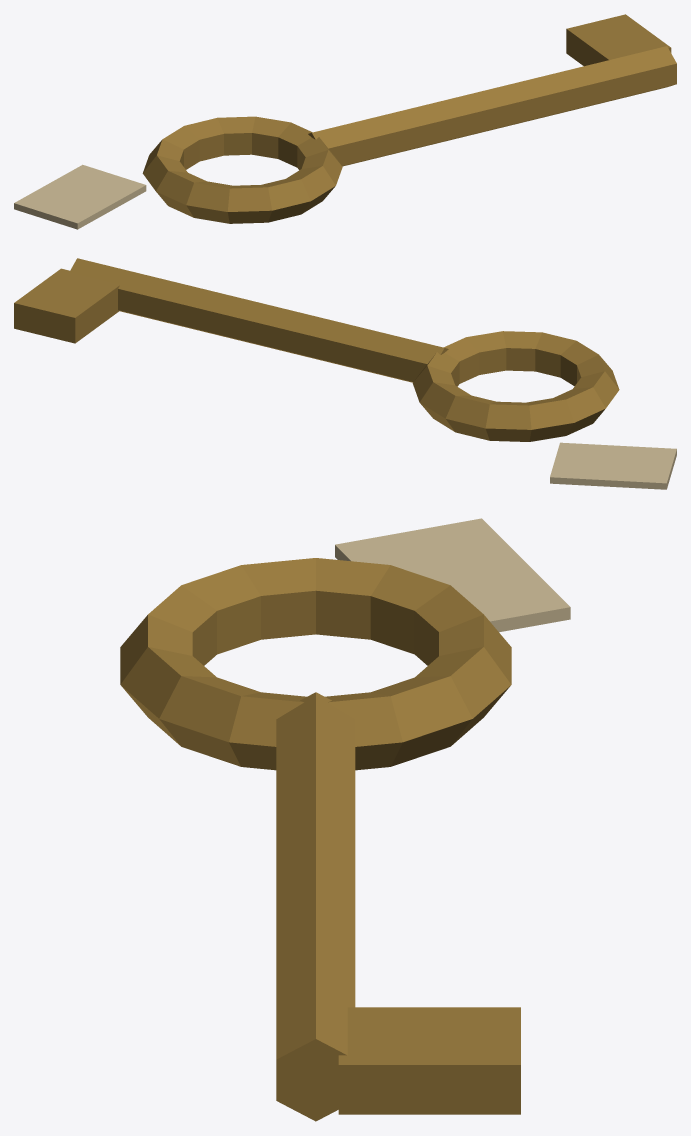
File: TownFind_bank.glb
The picture shows the model from 3 angles, top to bottom: view 1: azimuth 30°, elevation 25°; view 2: azimuth 150°, elevation 25°; view 3: azimuth 270°, elevation 25°; orthographic projection. The views are drawn at different scales.
Parts seen in each view (by area): view 1: TownFind_bank.001; view 2: TownFind_bank.001; view 3: TownFind_bank.001.
Part boxes in pixels (x1,y1,x2,y2): TownFind_bank.001: (14, 14, 676, 229); TownFind_bank.001: (14, 258, 676, 489); TownFind_bank.001: (120, 518, 570, 1121).
Bounding box in the file's own units: 0.3148 × 0.0215 × 0.0988.
